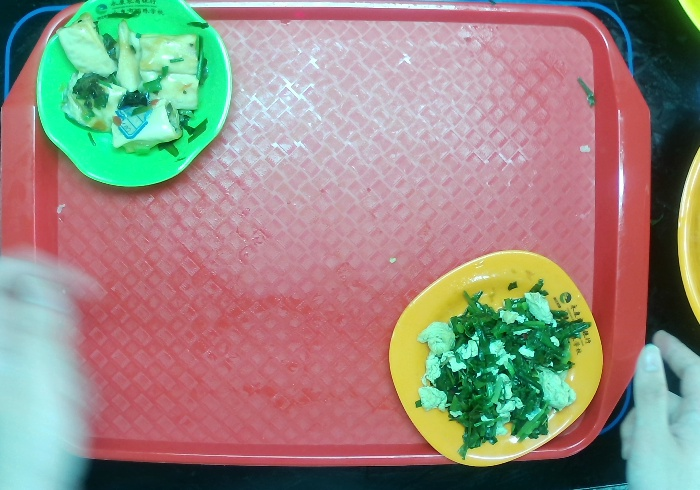YKMZ-Ju_Se_Fang_Die: (386, 249, 605, 465)
YKMZ-Lv_Se_Ao_Bian_Wan: (34, 1, 232, 190)
